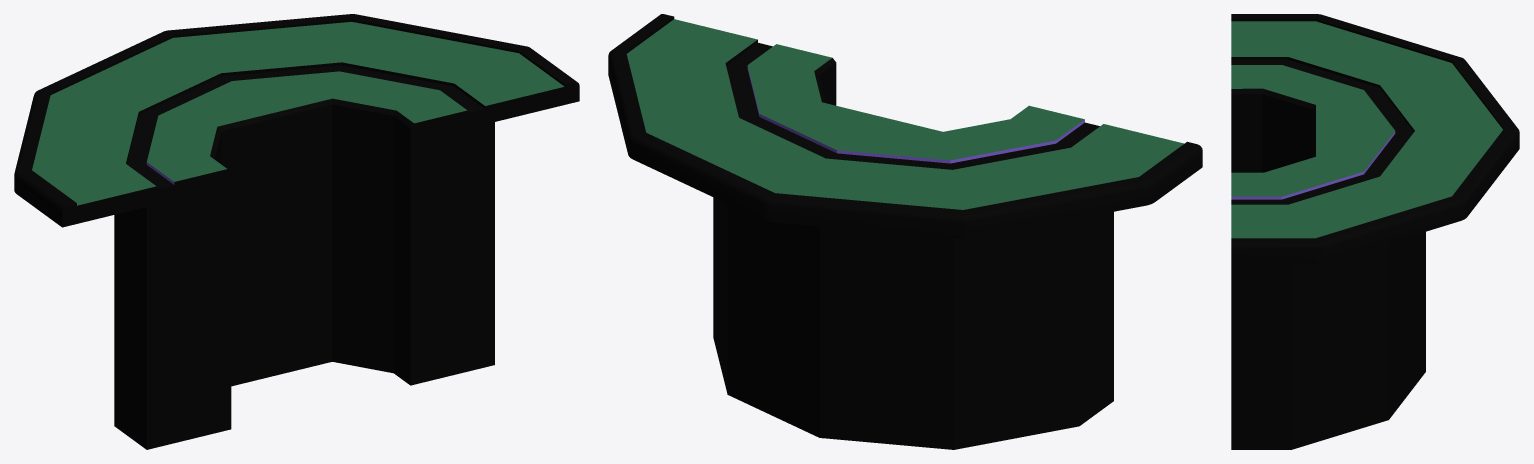
File: blackJackTable.fbx
3 renders of one model, left to right at view 1: azimuth 30°, elevation 25°; view 2: azimuth 150°, elevation 25°; view 3: azimuth 270°, elevation 25°, orthographic. The views are drawn at different scales.
Visible parts, largest first — view 1: Cylinder; view 2: Cylinder; view 3: Cylinder.
Boxes of the visible parts, bbox=[...] form: Cylinder: bbox=[14, 14, 579, 449]; Cylinder: bbox=[608, 14, 1202, 449]; Cylinder: bbox=[1231, 14, 1519, 449].
Size of the model in its own units: 220 by 107 by 115.
